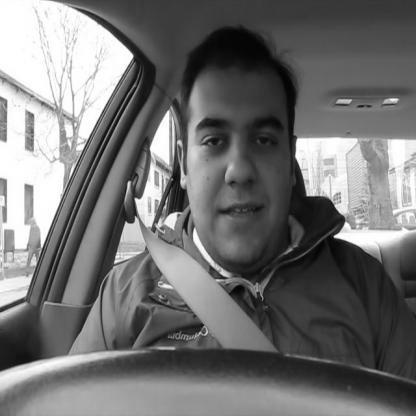seatbelt: (114, 26, 307, 366)
